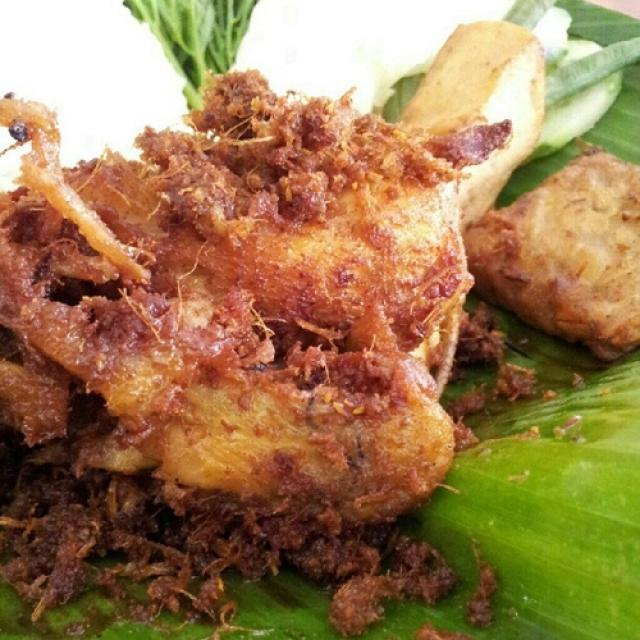鸡肉料理 含炸鸡: (4, 21, 623, 596)
